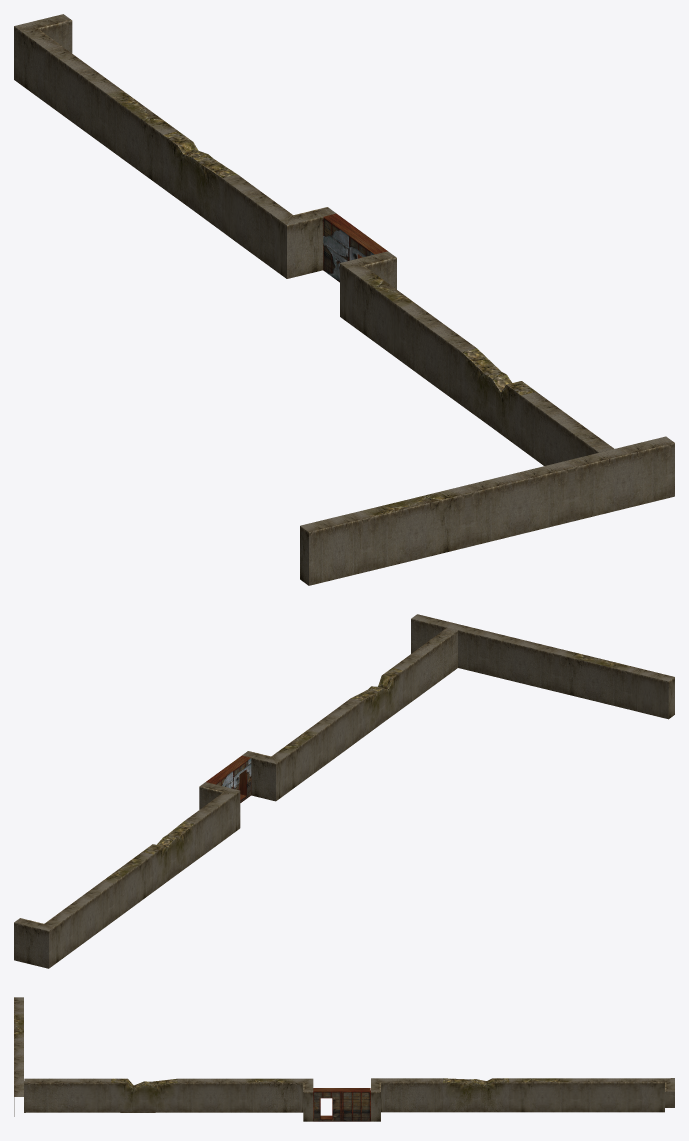
Rendered from HammondWall.obj.
3 renders of one model, top to bottom at view 1: azimuth 30°, elevation 25°; view 2: azimuth 150°, elevation 25°; view 3: azimuth 270°, elevation 25°, orthographic. The views are drawn at different scales.
Visible parts, largest first — view 1: SHammondGateWall-00.SHammondGateWall-00_SHammondGateWall-00; view 2: SHammondGateWall-00.SHammondGateWall-00_SHammondGateWall-00; view 3: SHammondGateWall-00.SHammondGateWall-00_SHammondGateWall-00.
Part boxes in pixels (x1,y1,x2,y2): SHammondGateWall-00.SHammondGateWall-00_SHammondGateWall-00: [14, 14, 674, 585]; SHammondGateWall-00.SHammondGateWall-00_SHammondGateWall-00: [14, 614, 674, 968]; SHammondGateWall-00.SHammondGateWall-00_SHammondGateWall-00: [14, 997, 674, 1121].
Bounding box in the file's own units: 0.7136 × 0.1 × 2.
Materials: 41 (41 with a texture image).
